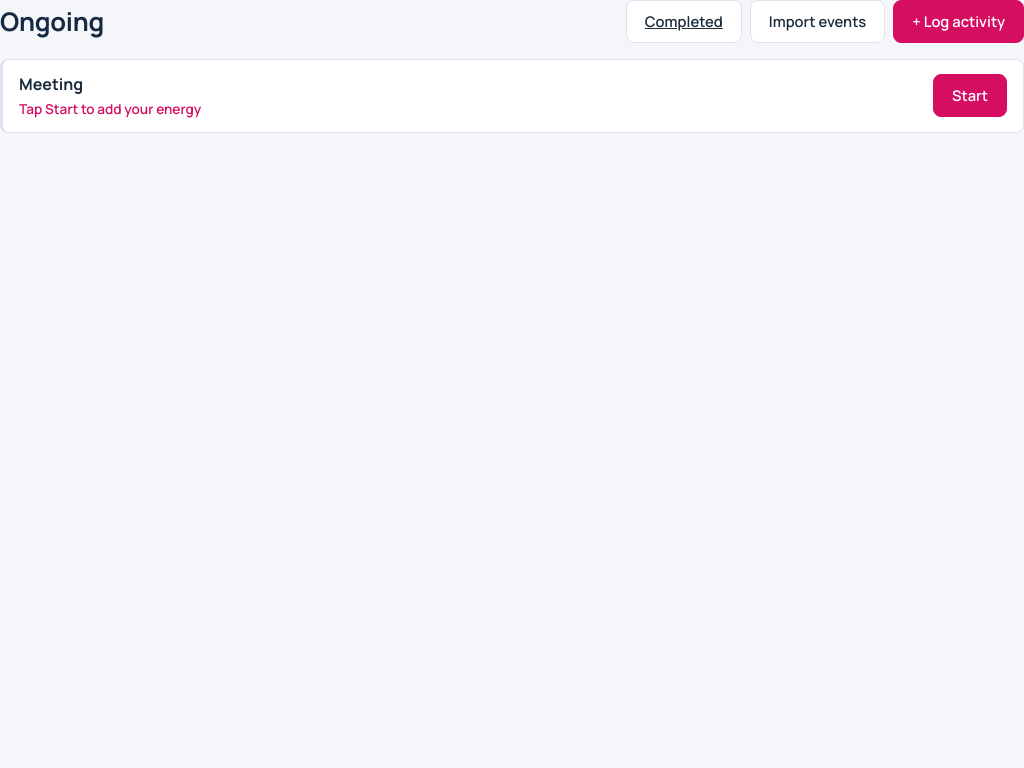
LandingPage › opens the start dialog for an imported event
Click the button "Start".
click(970, 96)  # box left=933, top=74, right=1007, bottom=117
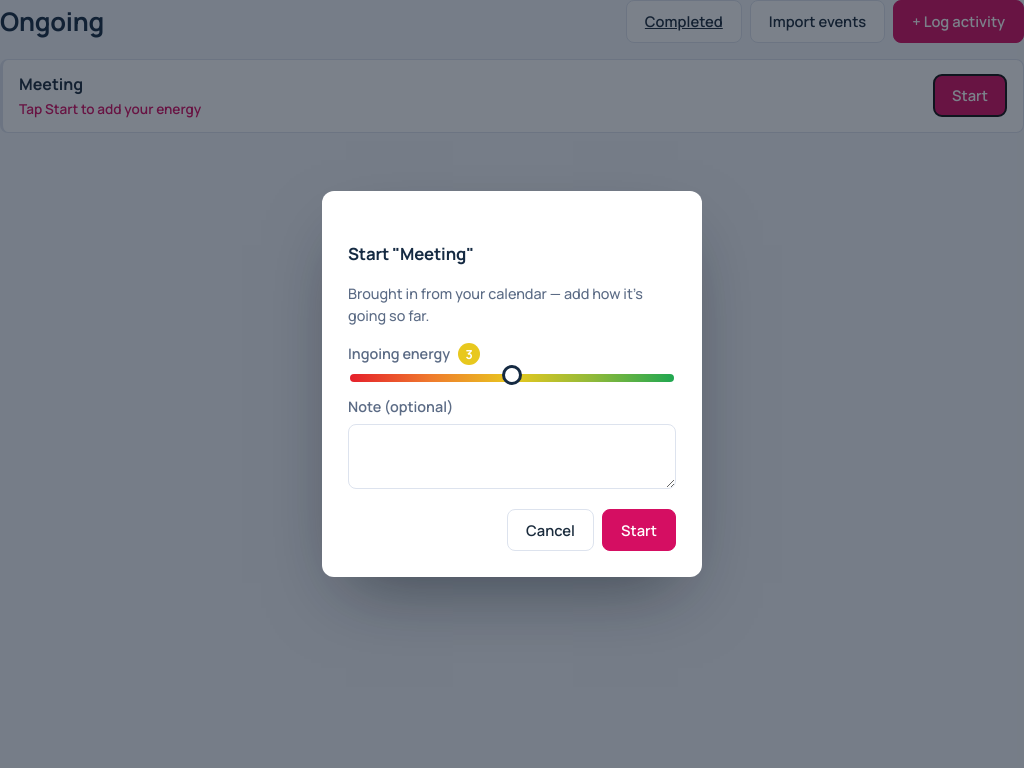
Result: the heading "Start \"Meeting\"" is shown at left=348, top=242, right=474, bottom=265
